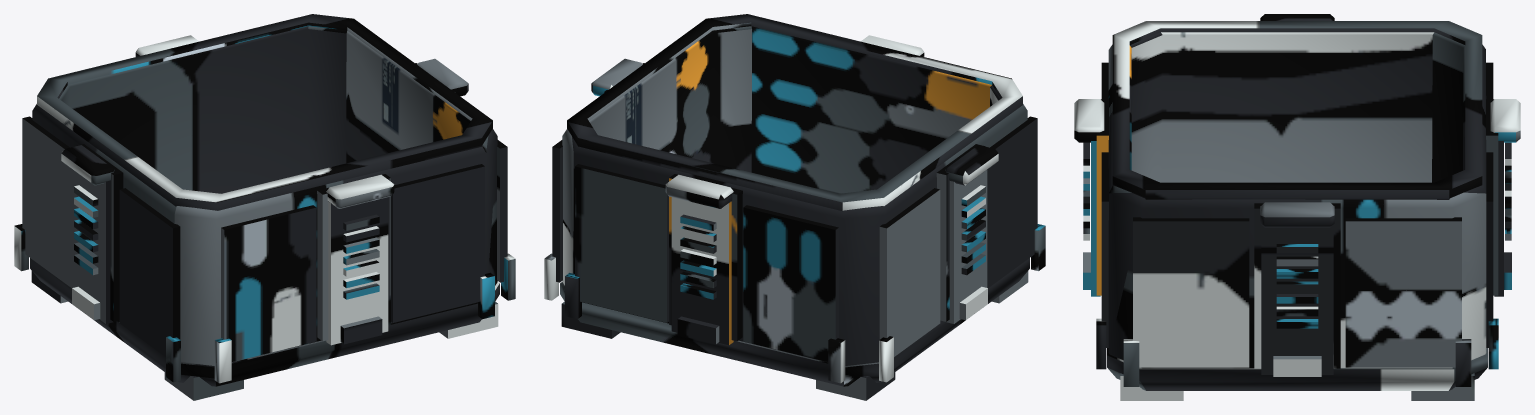
The model's file is S07_Body_LOD1.obj.
The picture shows the model from 3 angles, left to right: view 1: azimuth 30°, elevation 25°; view 2: azimuth 150°, elevation 25°; view 3: azimuth 270°, elevation 25°; orthographic projection. The views are drawn at different scales.
Visible parts, largest first — view 1: S07_Body_LOD1.001; view 2: S07_Body_LOD1.001; view 3: S07_Body_LOD1.001.
Part boxes in pixels (box(x1,y1,x2,y2)): S07_Body_LOD1.001: box(14, 14, 515, 400); S07_Body_LOD1.001: box(544, 14, 1045, 400); S07_Body_LOD1.001: box(1074, 14, 1520, 400).
Size of the model in its own units: 1.28 by 0.634 by 1.2.
